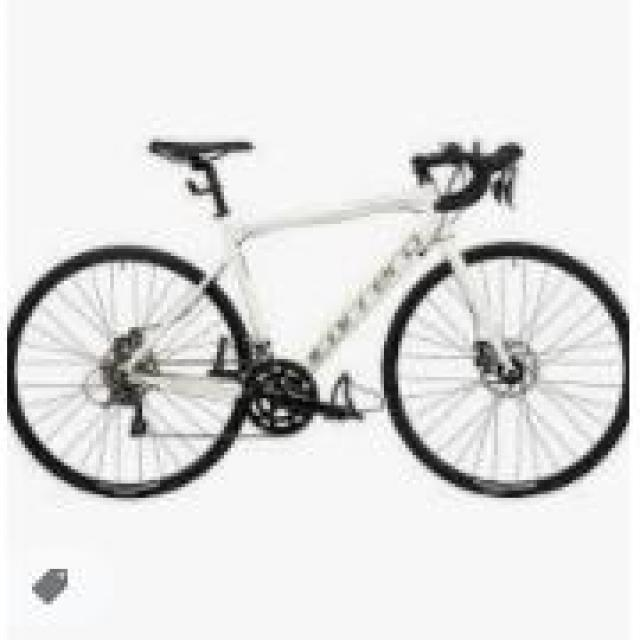bicycle: (22, 122, 634, 531)
